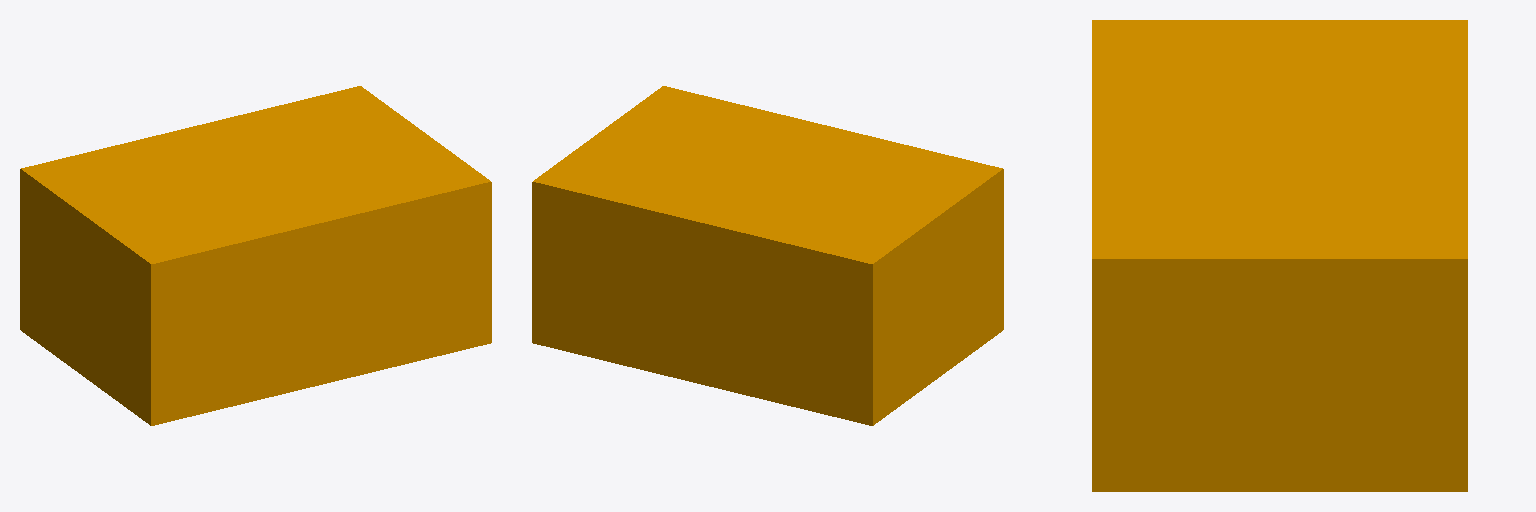
URDF robot description (2x2):
<?xml version='1.0' encoding='UTF-8'?>
<robot name="2x2">
  <link name="base_link">
    <inertial>
      <origin xyz="0.0 0.0 0.0" rpy="0.0 0.0 0.0"/>
      <mass value="0.01"/>
      <inertia ixx="0.1" ixy="0.0" ixz="0.0" iyy="0.1" iyz="0.0" izz="0.1"/>
    </inertial>
    <visual>
      <geometry>
        <box size="0.033 0.022 0.015"/>
      </geometry>
      <material name=""/>
      <origin xyz="0.0 0.0 0.0" rpy="0.0 0.0 0.0"/>
    </visual>
    <collision>
      <geometry>
        <box size="0.033 0.022 0.015"/>
      </geometry>
      <origin xyz="0.0 0.0 0.0" rpy="0.0 0.0 0.0"/>
    </collision>
  </link>
  <material name="">
    <color rgba="0.021 0.859 0.642 1.   "/>
  </material>
  <contact>
    <lateral_friction value="1.0"/>
    <rolling_friction value="0.0"/>
    <contact_cfm value="0.0"/>
    <contact_erp value="1.0"/>
  </contact>
</robot>

--- What the picture shows (computed from the rendered views, not written in the file) ---
3 views of the same robot in one strip: view 1: azimuth 30°, elevation 25°; view 2: azimuth 150°, elevation 25°; view 3: azimuth 270°, elevation 25° (orthographic).
Model 2x2 with 1 links and 0 joints (none), rooted at base_link, posed every joint at zero.
Links seen in each view (by area): view 1: base_link; view 2: base_link; view 3: base_link.
Boxes of the visible links, box(x1,y1,x2,y2) form: base_link: box(20, 86, 491, 425); base_link: box(532, 86, 1003, 425); base_link: box(1092, 20, 1467, 491).
Bounding box of the posed robot: 0.033 × 0.022 × 0.015 m (x, y, z).
Geometry: primitives only (box / cylinder / sphere), no mesh files.